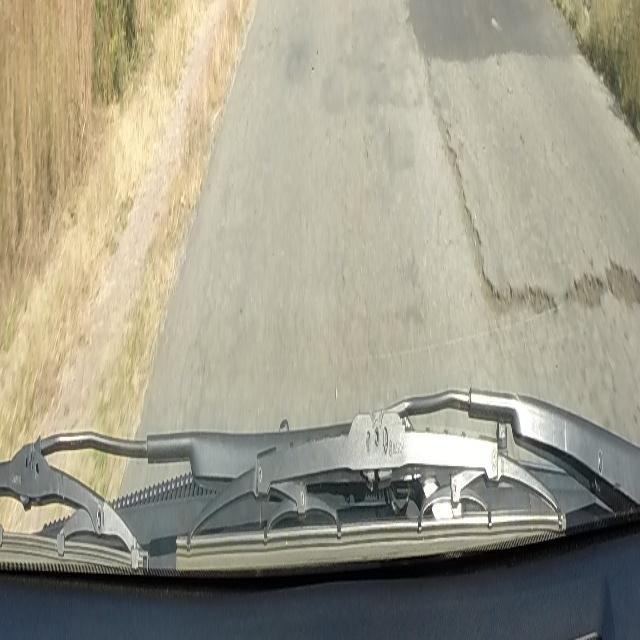pothole: (511, 271, 559, 319), (562, 258, 606, 310), (609, 255, 640, 316)
